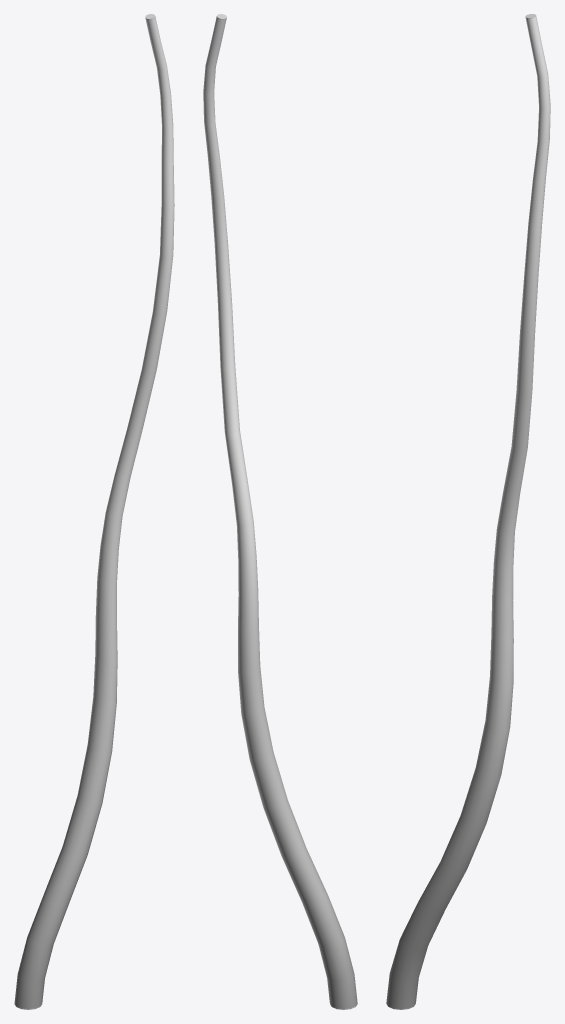
The model's file is thread_2.fbx.
The picture shows the model from 3 angles, left to right: view 1: azimuth 30°, elevation 25°; view 2: azimuth 150°, elevation 25°; view 3: azimuth 330°, elevation 25°; orthographic projection. The views are drawn at different scales.
Parts seen in each view (by area): view 1: thread2; view 2: thread2; view 3: thread2.
Boxes of the visible parts, left/top/right/bottom form: thread2: left=14, top=14, right=174, bottom=1009; thread2: left=203, top=14, right=357, bottom=1009; thread2: left=386, top=14, right=550, bottom=1009.
Size of the model in its own units: 20.87 by 124 by 5.97.
